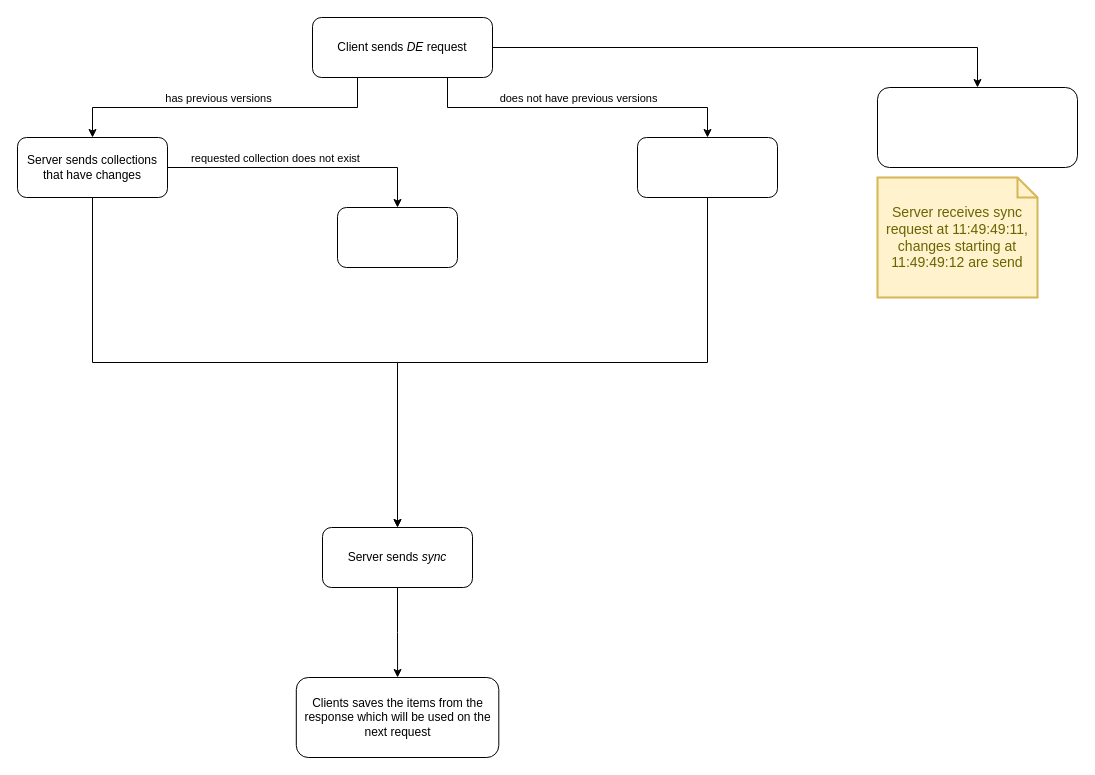
Some shapes in this 1095 by 775 pixel diagram are drawn without their labels. Here are the shapes that lost their labels. From the top down, the box of each, then its label:
(876, 86, 1078, 168): Server starts sending changes
(636, 136, 778, 198): Server sends all collections
(336, 206, 458, 268): Server sends remove_collection
